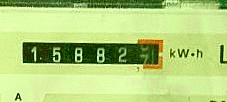1: (27, 43, 38, 62)
2: (116, 44, 127, 63)
5: (49, 45, 61, 62)
7: (137, 52, 149, 64)
8: (93, 45, 105, 63), (71, 45, 83, 62)
screen: (12, 30, 169, 76)
